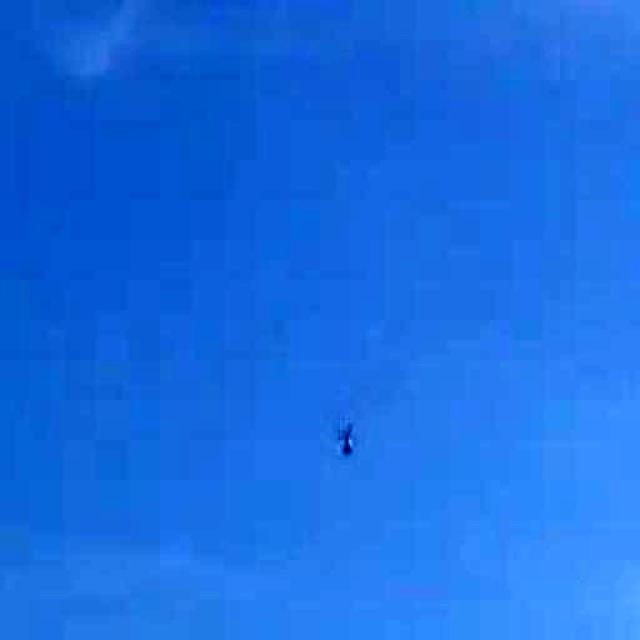drone: (312, 392, 381, 484)
